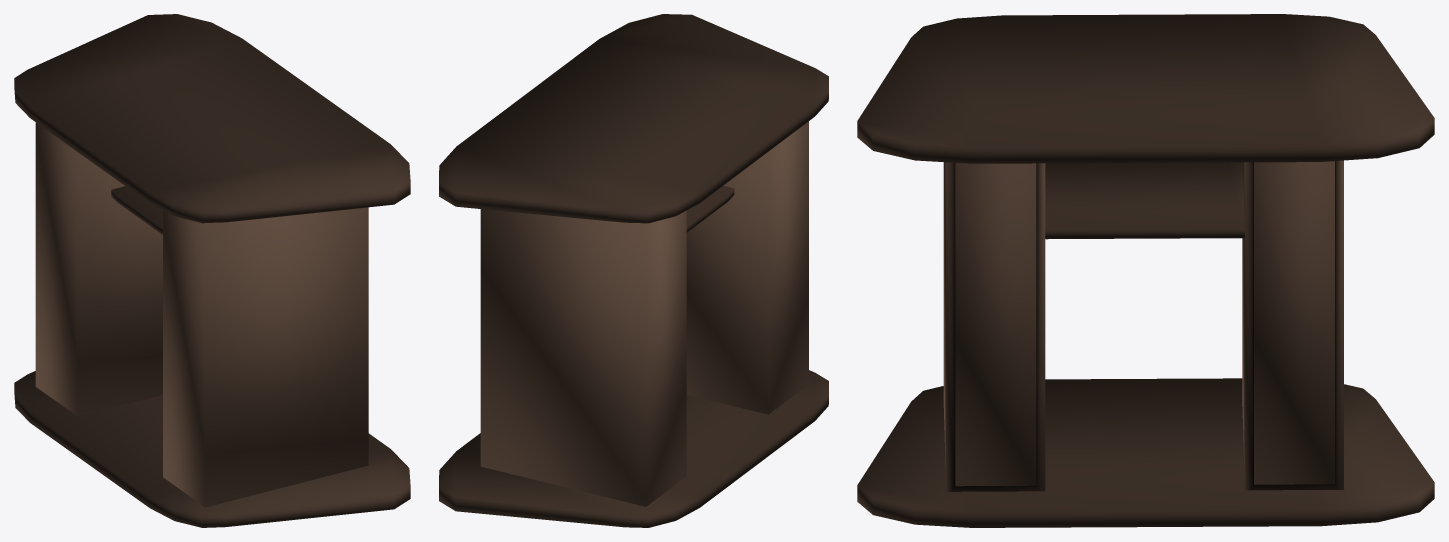
The model's file is TVtable.fbx.
3 renders of one model, left to right at view 1: azimuth 30°, elevation 25°; view 2: azimuth 150°, elevation 25°; view 3: azimuth 270°, elevation 25°, orthographic. The views are drawn at different scales.
Visible parts, largest first — view 1: Cube.002; view 2: Cube.002; view 3: Cube.002.
Boxes of the visible parts, x1,y1,x2,y2 form: Cube.002: [14, 14, 410, 527]; Cube.002: [439, 14, 828, 527]; Cube.002: [857, 14, 1434, 527].
Size of the model in its own units: 29.94 by 16.52 by 21.81.
